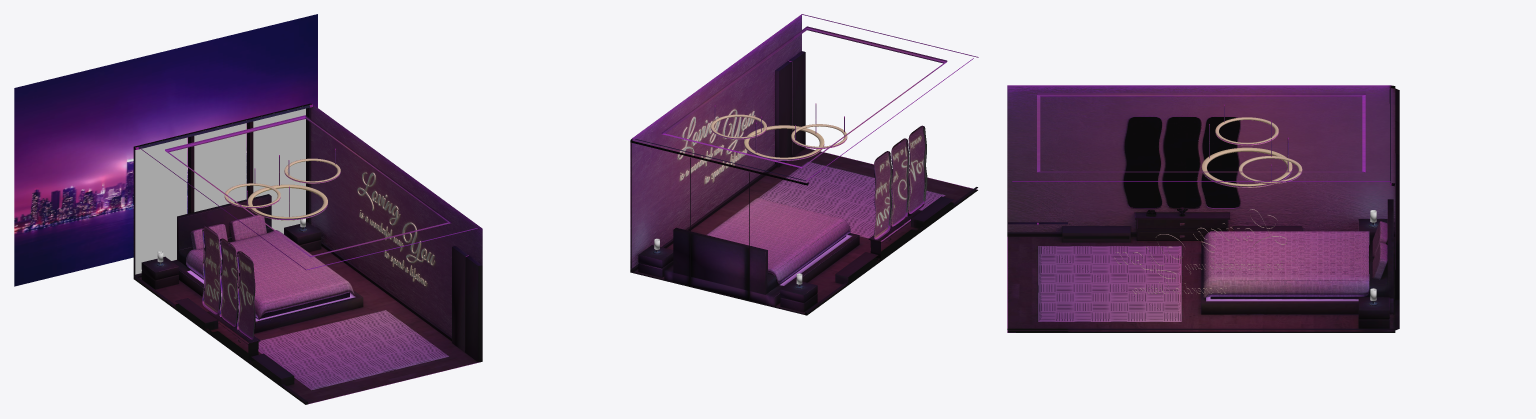
Rendered from model.original.glb.
The picture shows the model from 3 angles, left to right: view 1: azimuth 30°, elevation 25°; view 2: azimuth 150°, elevation 25°; view 3: azimuth 270°, elevation 25°; orthographic projection. The views are drawn at different scales.
Parts seen in each view (by area): view 1: Neon Bedroom; view 2: Neon Bedroom; view 3: Neon Bedroom.
Boxes of the visible parts, <box> form: Neon Bedroom: <box>14,14,482,404</box>; Neon Bedroom: <box>630,14,978,315</box>; Neon Bedroom: <box>1007,85,1399,332</box>.
Size of the model in its own units: 8.64 by 5.4 by 11.24.
Materials: 13 (12 with a texture image).
